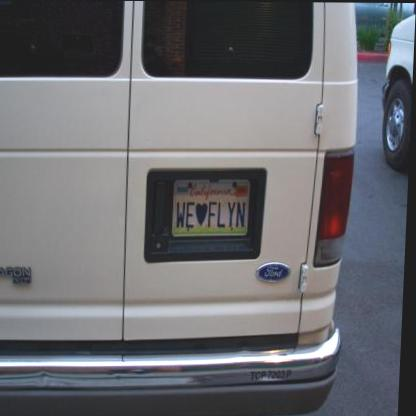License_Plate: (171, 177, 252, 238)
